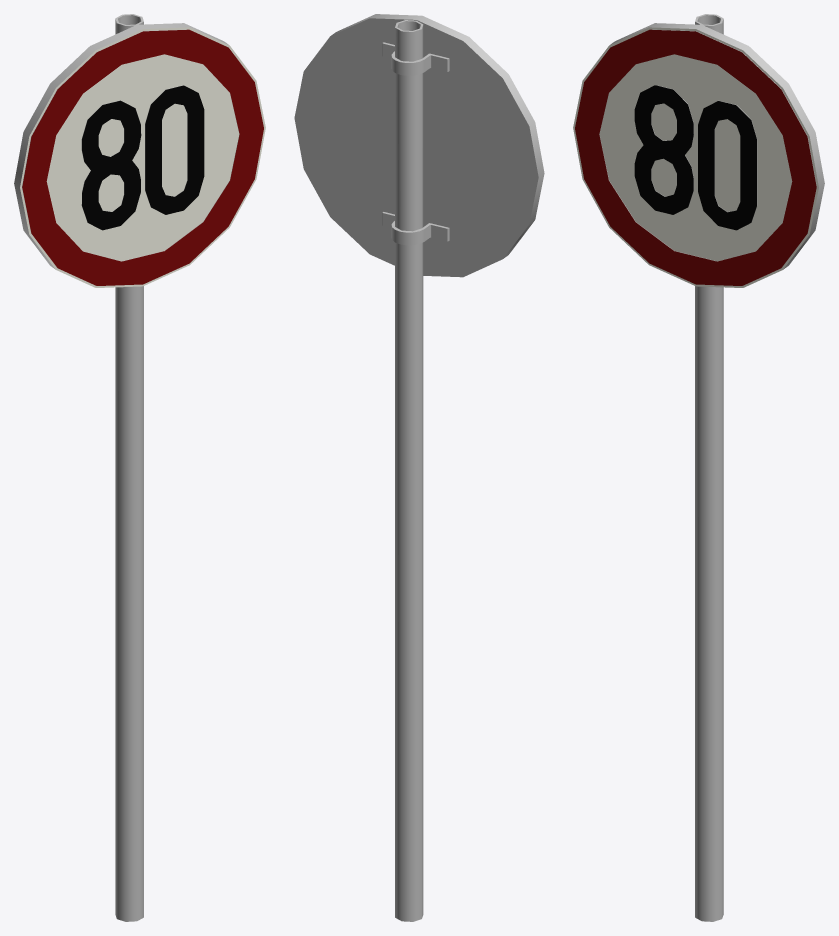
The picture shows the model from 3 angles, left to right: view 1: azimuth 30°, elevation 25°; view 2: azimuth 150°, elevation 25°; view 3: azimuth 330°, elevation 25°; orthographic projection.
Parts seen in each view (by area): view 1: 80; view 2: 80; view 3: 80.
Boxes of the visible parts, x1,y1,x2,y2 form: 80: (14,14,265,921); 80: (294,14,544,921); 80: (573,14,824,921).
Bounding box in the file's own units: 603 × 2102 × 95.5.
